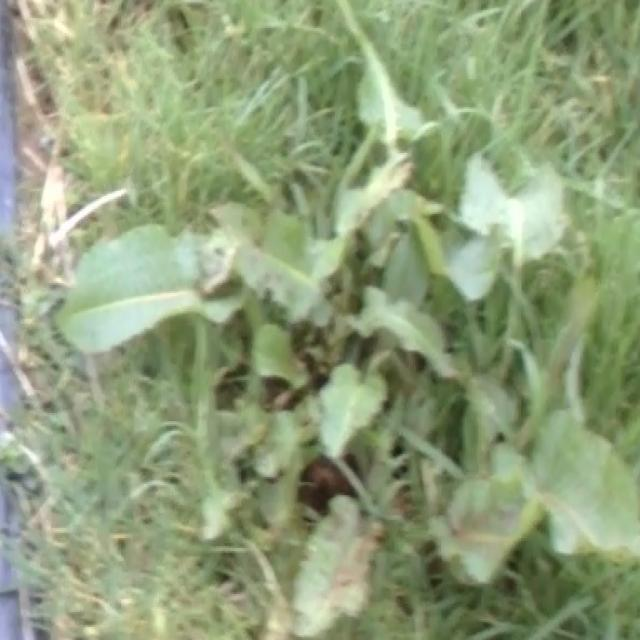organic waste: (80, 64, 639, 640)
